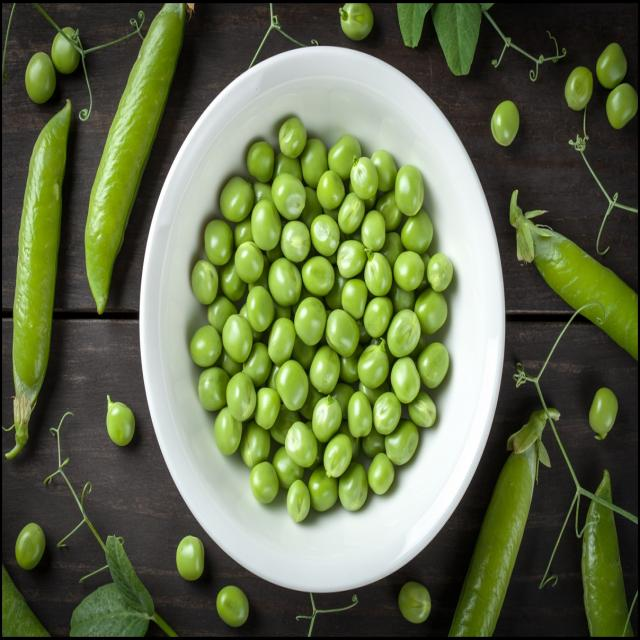pea: (204, 167, 440, 500)
